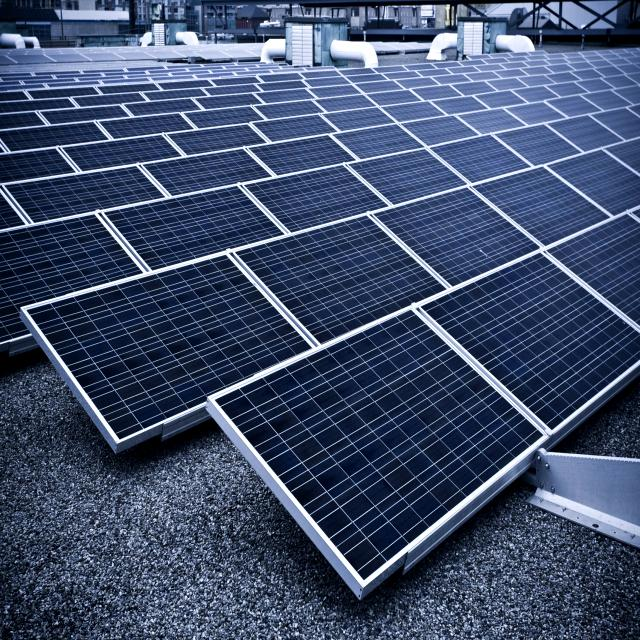crack: (209, 309, 522, 592), (12, 243, 322, 444), (402, 260, 640, 436), (234, 216, 442, 368), (0, 206, 147, 373), (98, 196, 302, 296), (374, 184, 534, 290), (473, 158, 616, 259), (245, 170, 400, 256), (426, 119, 536, 194), (349, 148, 466, 218), (0, 172, 168, 216), (138, 148, 280, 198), (245, 140, 376, 186), (240, 115, 355, 154), (495, 126, 581, 170), (546, 110, 618, 162), (319, 96, 396, 142), (346, 134, 347, 138)
